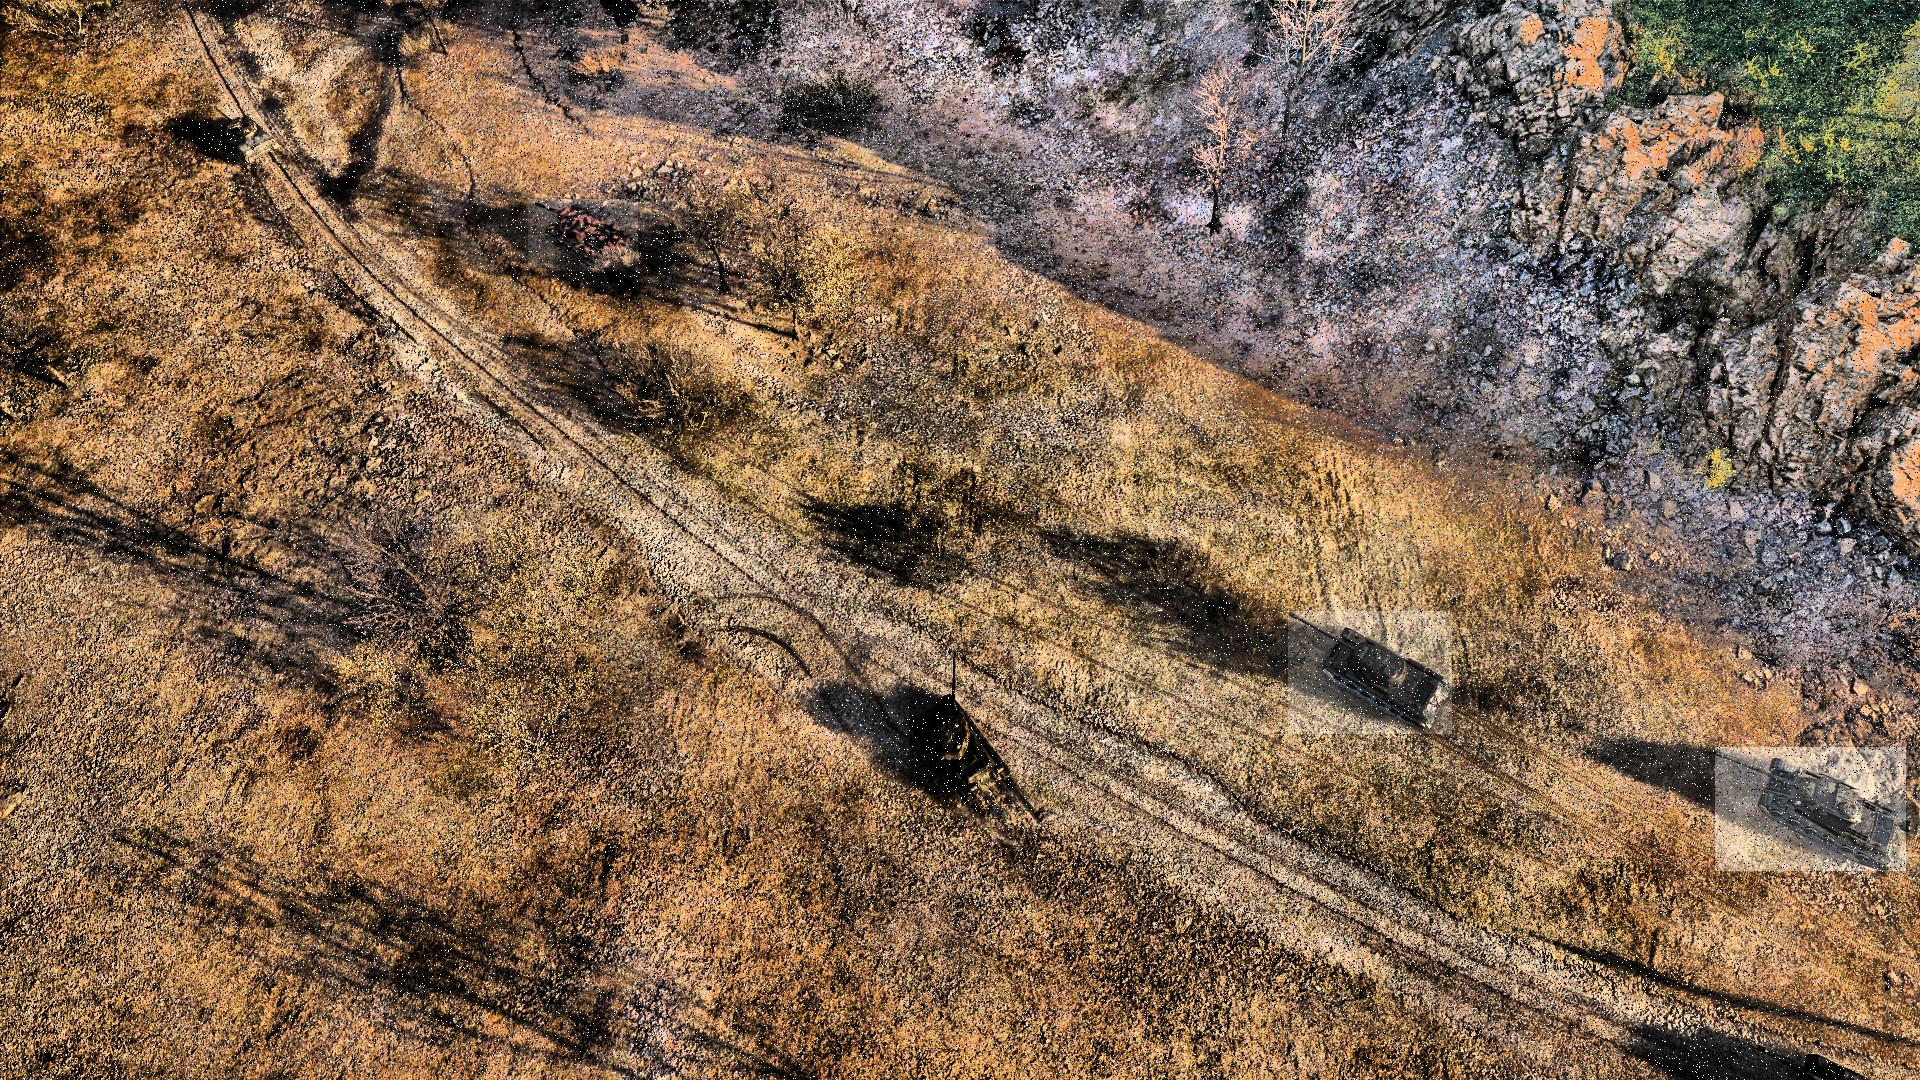military-vehicle: (1716, 748, 1907, 872), (1288, 612, 1452, 735), (910, 651, 1011, 808), (529, 200, 638, 272), (212, 105, 281, 164)
